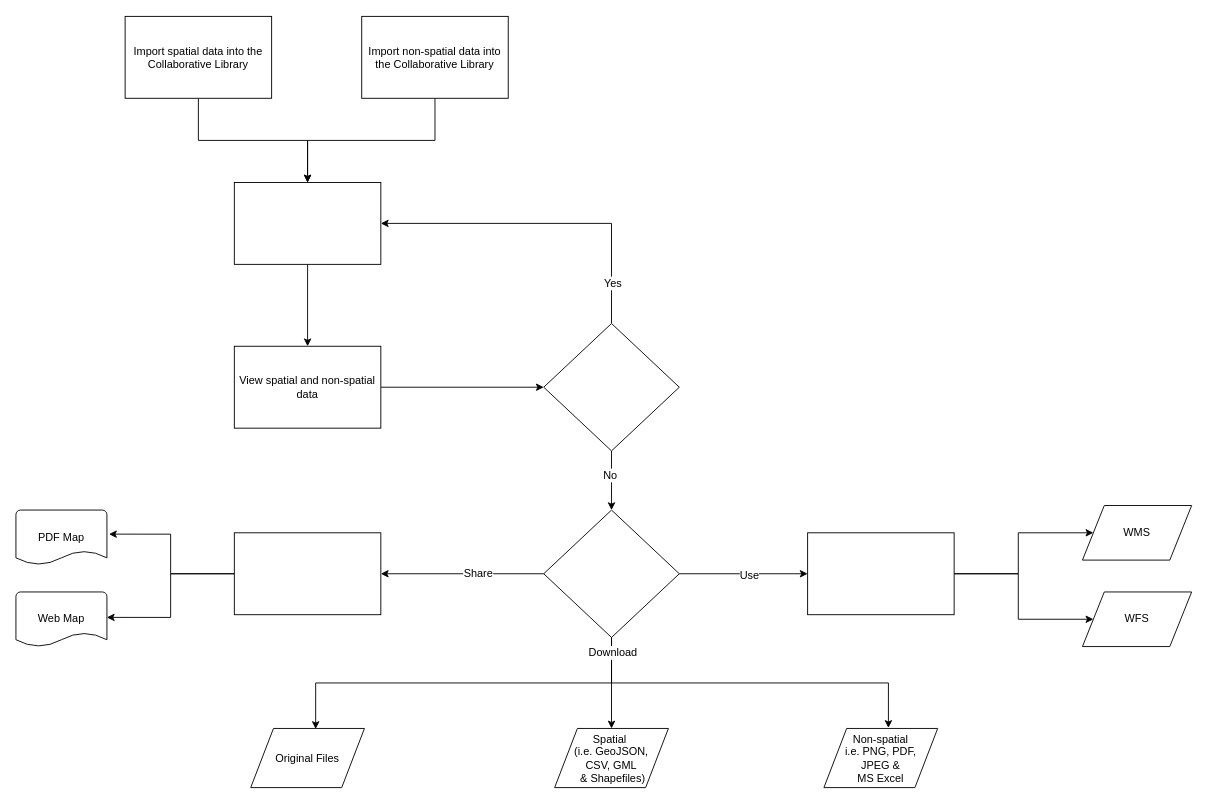
Image size: 1208x804. Some labels were removed from this diagram. Each missing label, with the centre of its shape:
Create a map using GeoNode and the spatial data: point (307, 573)
Describe the data by adding metadata through the Metadata Wizard: point (307, 223)
Does the metadata need updating?: point (611, 387)
Download, share or use the data: point (611, 573)
WFS and WMS capabilities through QGIS: point (880, 573)
